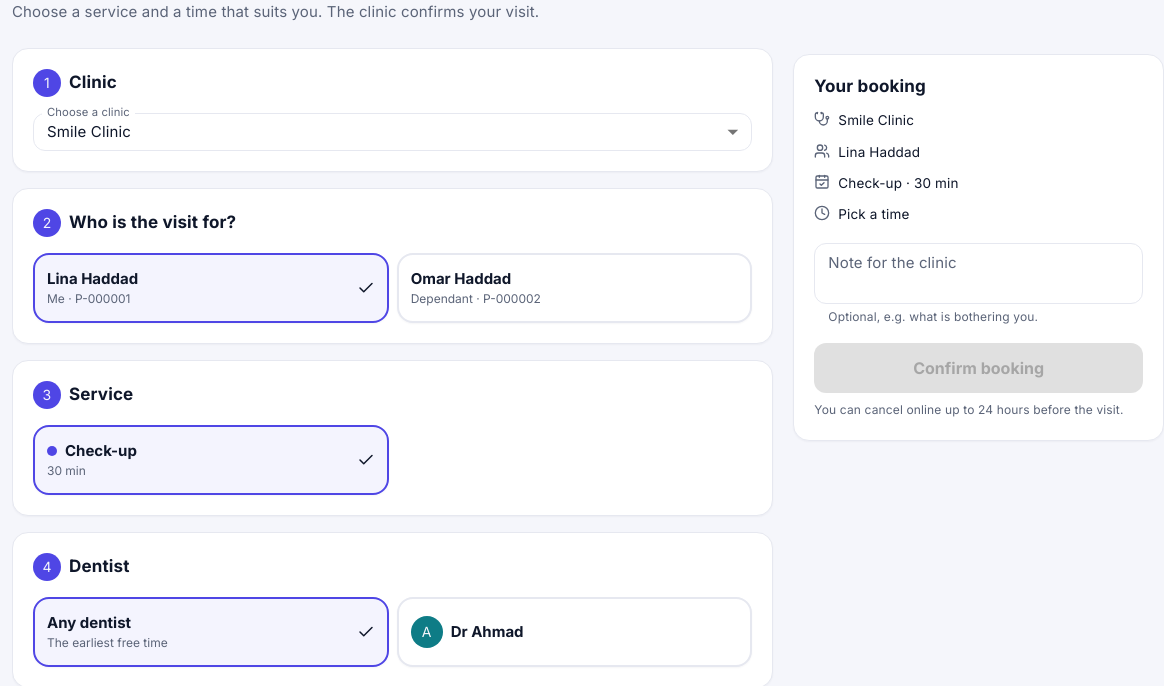
Test: portal booking › books the chosen family member, service and time, then confirms
This screenshot has width=1164, height=686.
Check: the button "Confirm booking" is disabled, box [814,343,1143,393]
Click the text "Omar Haddad".
click(461, 279)  # box [411,269,511,288]
(page scrolled)
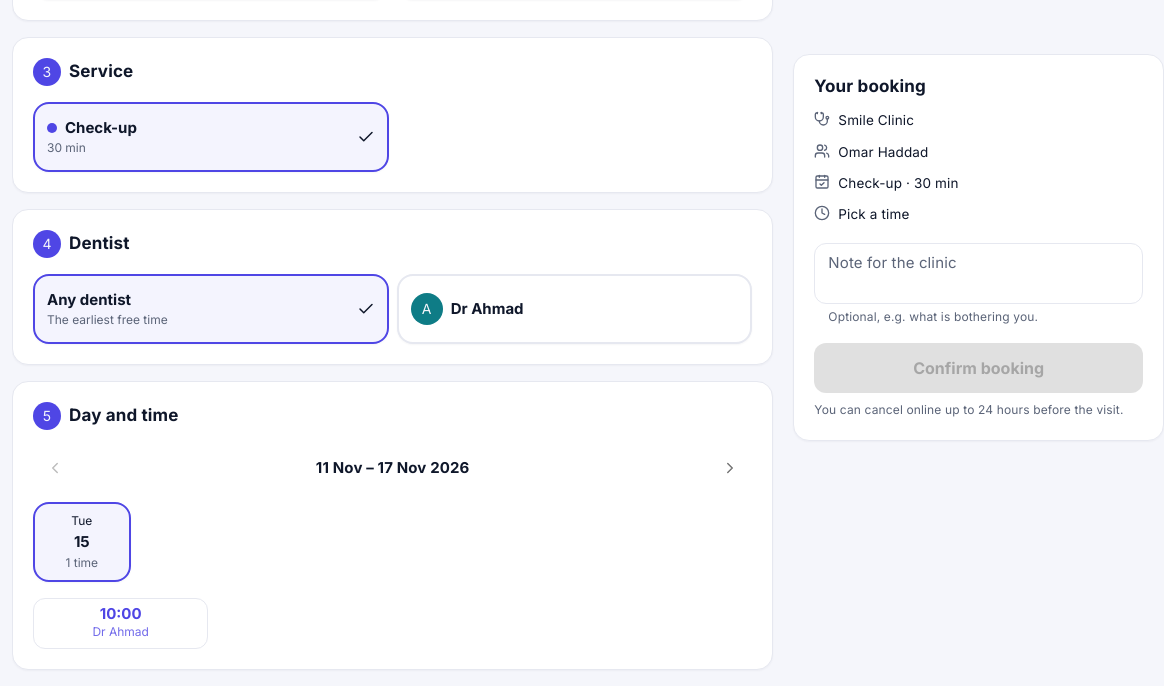
Click the button "10:00 Dr Ahmad".
click(121, 624)  # box [33,598,208,649]
(page scrolled)
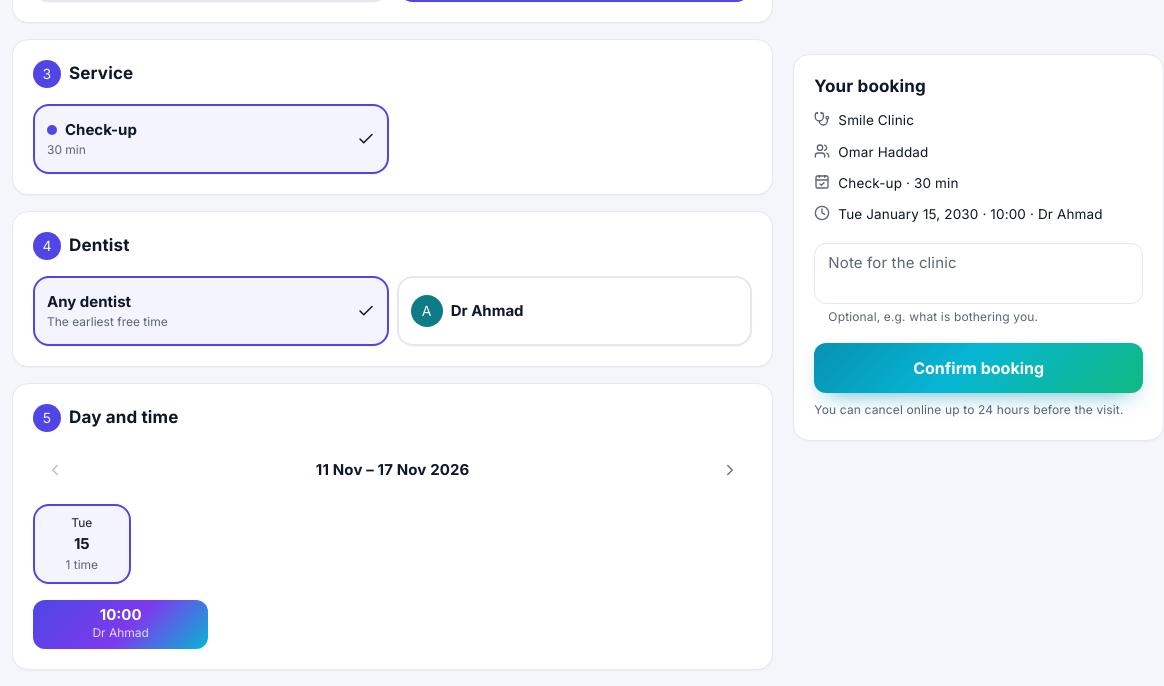
Type "Loose tooth" into the text box labelled "Note for the clinic".
click(979, 274); type("Loose tooth")  # box [828,252,1129,296]
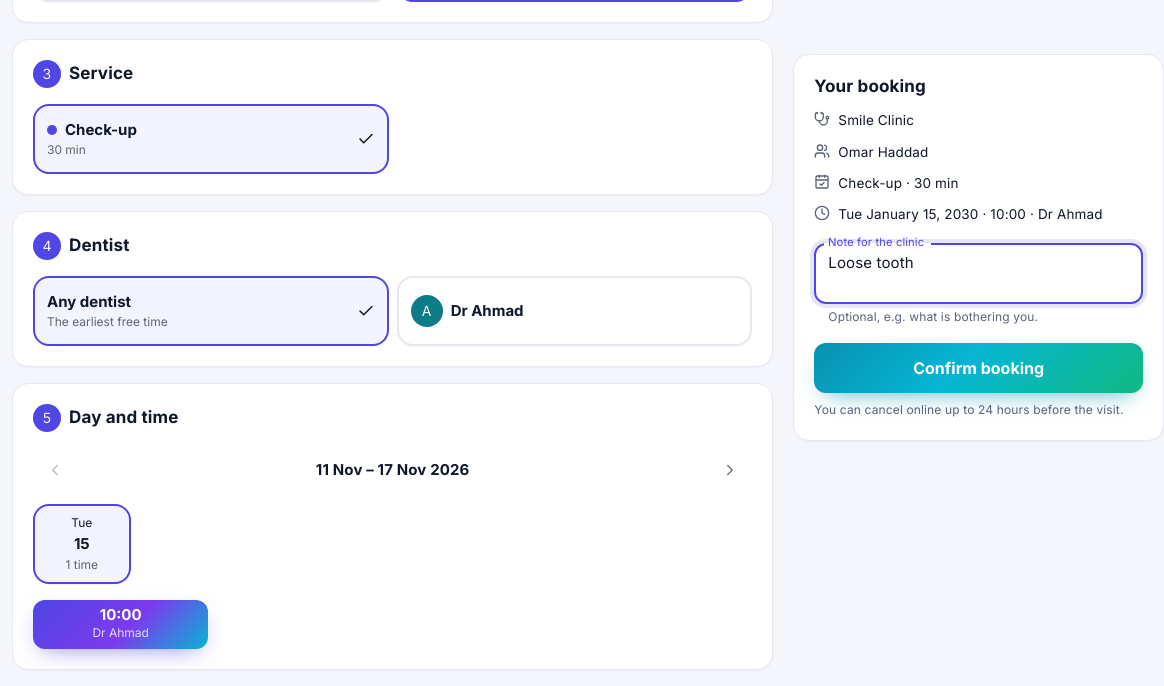
Click the button "Confirm booking".
click(979, 368)  # box [814,343,1143,393]
(page scrolled)
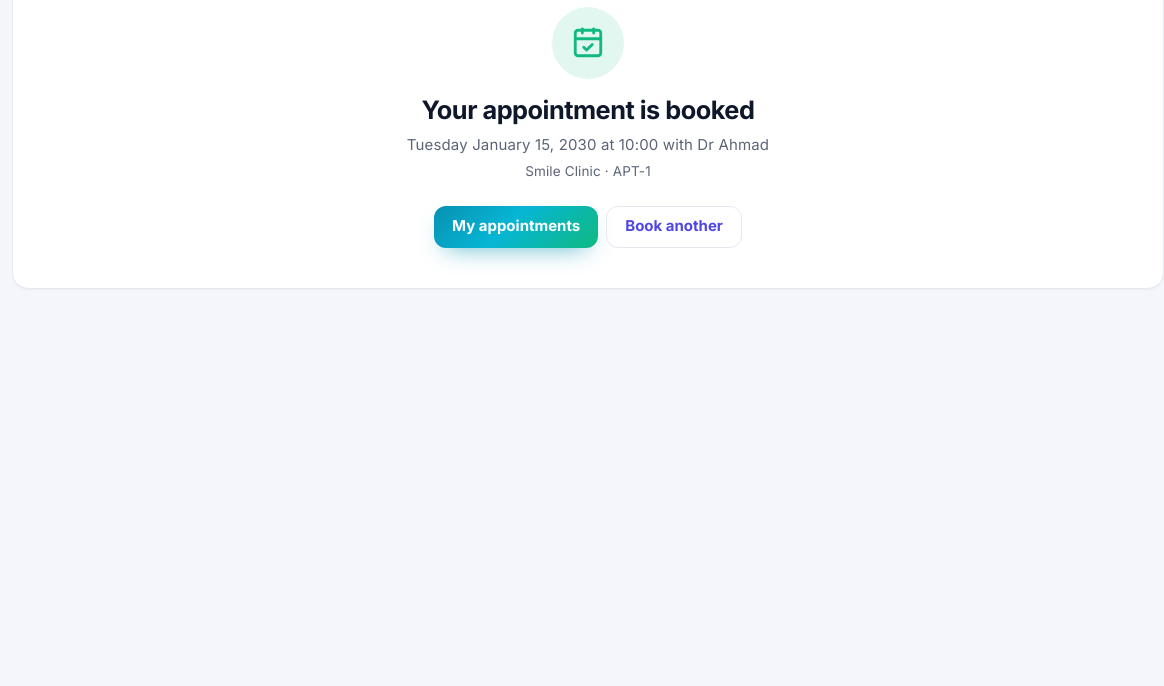
Check: the heading "Your appointment is booked" is shown, box [422,94,754,125]
